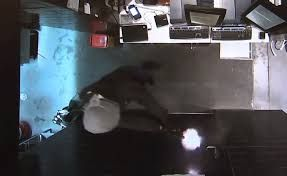gun: (162, 121, 211, 155)
